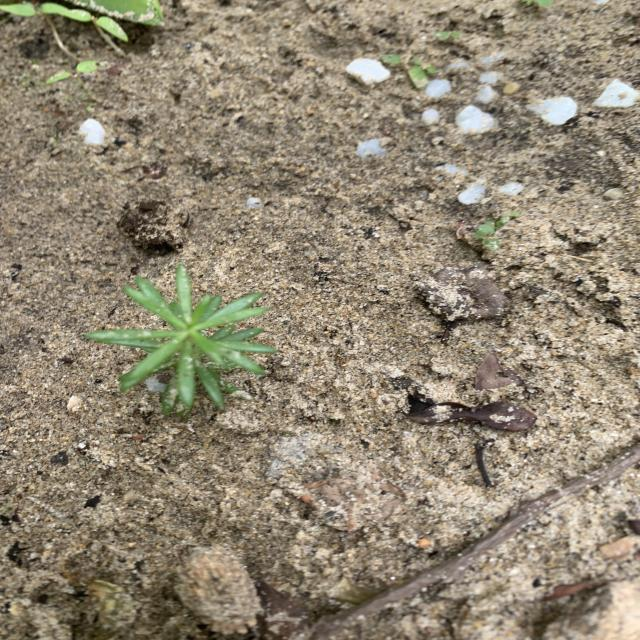weed: (85, 266, 275, 414), (0, 0, 78, 60), (67, 9, 128, 56), (45, 60, 112, 97), (381, 55, 435, 87), (473, 211, 519, 240)
